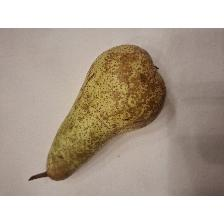Birne: (28, 41, 170, 186)
